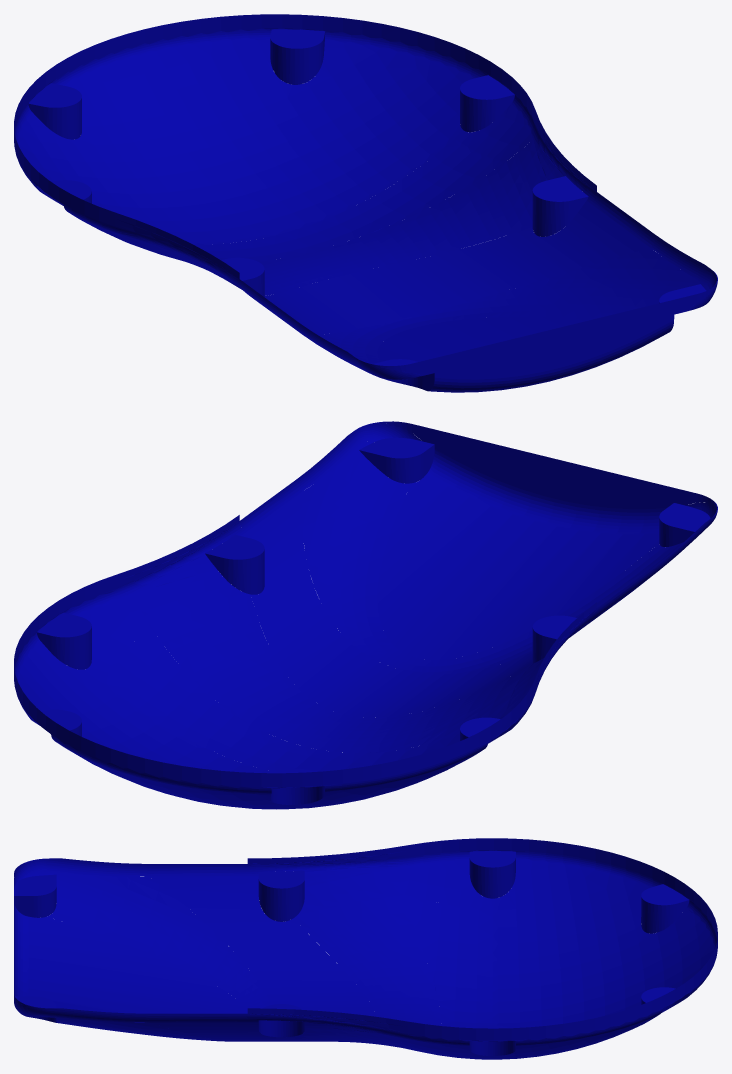
The model's file is cover.dae.
The picture shows the model from 3 angles, top to bottom: view 1: azimuth 30°, elevation 25°; view 2: azimuth 150°, elevation 25°; view 3: azimuth 270°, elevation 25°; orthographic projection. The views are drawn at different scales.
Parts seen in each view (by area): view 1: Cover; view 2: Cover; view 3: Cover.
Part boxes in pixels (<box>): Cover: <box>14,14,717,392</box>; Cover: <box>14,421,717,809</box>; Cover: <box>14,838,717,1059</box>.
Size of the model in its own units: 0.127 by 0.1985 by 0.0295.
